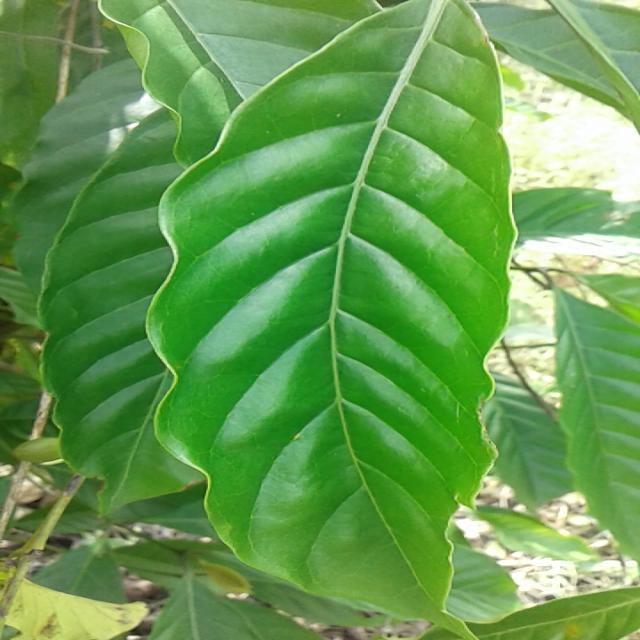Sanas: (143, 0, 517, 635)
